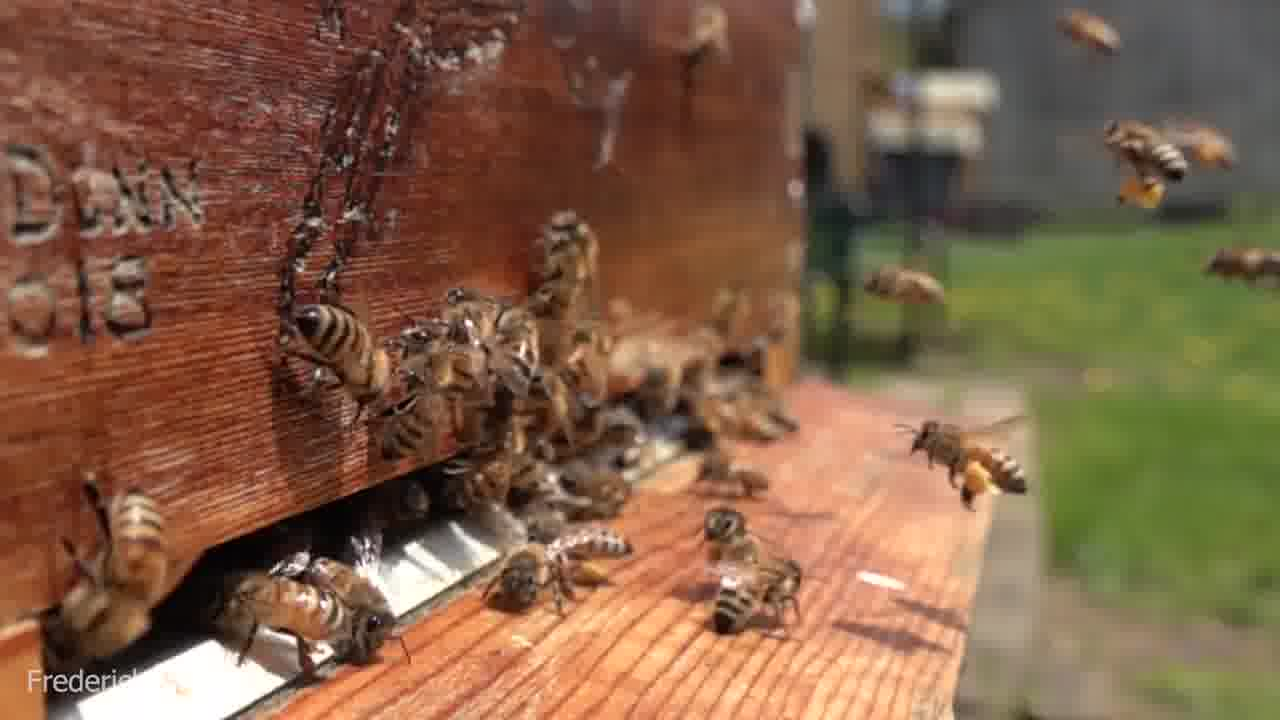pollen: (907, 425, 1039, 509), (1100, 117, 1190, 215)
